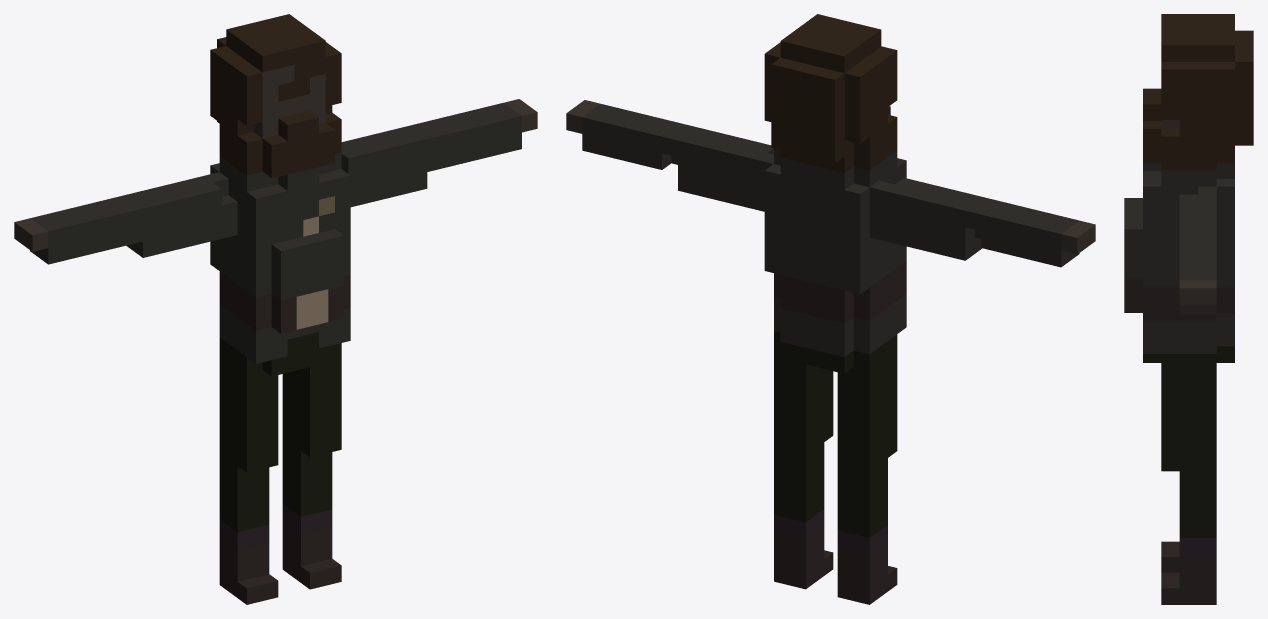
File: TPose_Character06.glb
3 renders of one model, left to right at view 1: azimuth 30°, elevation 25°; view 2: azimuth 150°, elevation 25°; view 3: azimuth 270°, elevation 25°, orthographic.
Visible parts, largest first — view 1: Character06; view 2: Character06; view 3: Character06.
Part boxes in pixels (x1,y1,x2,y2): Character06: [14, 14, 537, 604]; Character06: [566, 14, 1095, 604]; Character06: [1124, 14, 1253, 604].
Size of the model in its own units: 1.94 by 2 by 0.4241.
Materials: 1 (1 with a texture image).
